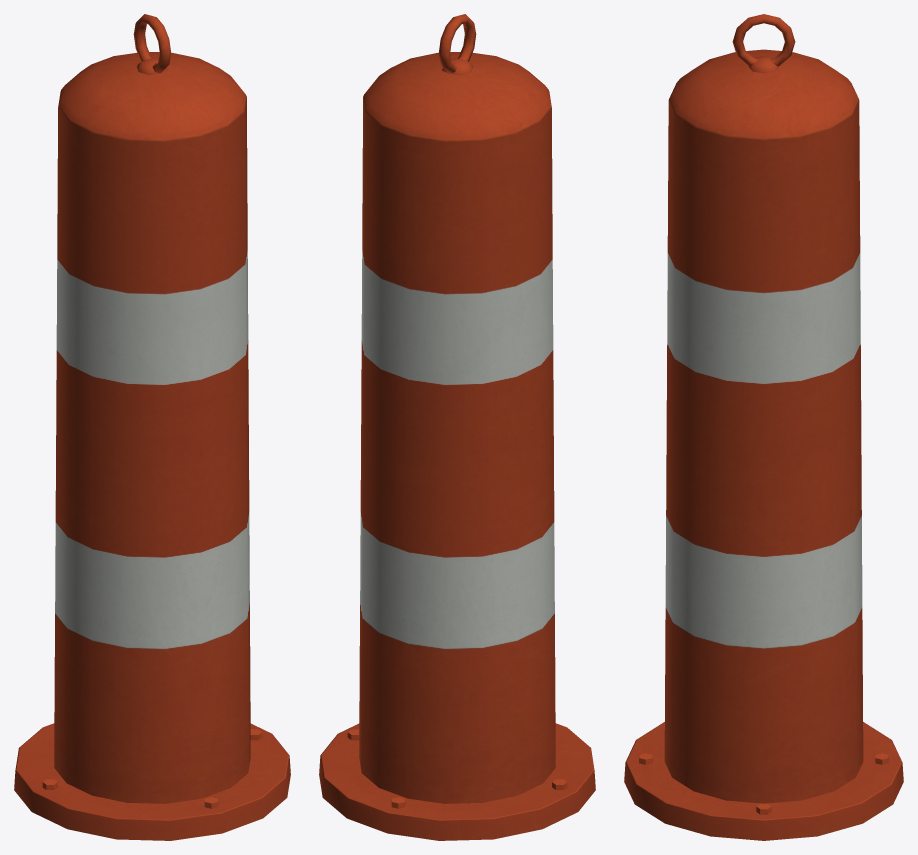
File: Traffic_Pylon.glb
3 views of the same model, side by side, from view 1: azimuth 30°, elevation 25°; view 2: azimuth 150°, elevation 25°; view 3: azimuth 270°, elevation 25° (orthographic).
Visible parts, largest first — view 1: Traffic_Pylon__LOD3; view 2: Traffic_Pylon__LOD3; view 3: Traffic_Pylon__LOD3.
Boxes of the visible parts, x1,y1,x2,y2 form: Traffic_Pylon__LOD3: [14, 14, 290, 840]; Traffic_Pylon__LOD3: [319, 14, 595, 840]; Traffic_Pylon__LOD3: [624, 14, 903, 840].
Bounding box in the file's own units: 0.2195 × 0.6649 × 0.2195.
Materials: 1 (1 with a texture image).
